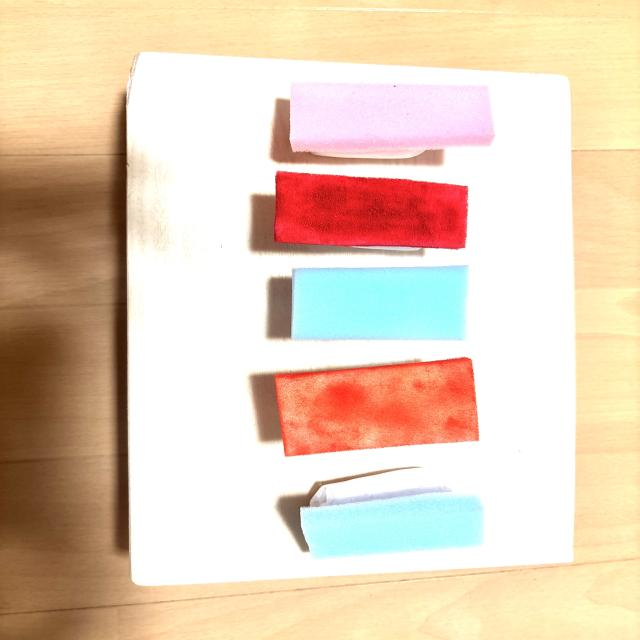NG: (300, 468, 484, 559)
ika: (292, 266, 468, 340)
maguro: (274, 171, 468, 251)
salmon: (275, 358, 478, 456)
tai: (290, 82, 494, 158)
